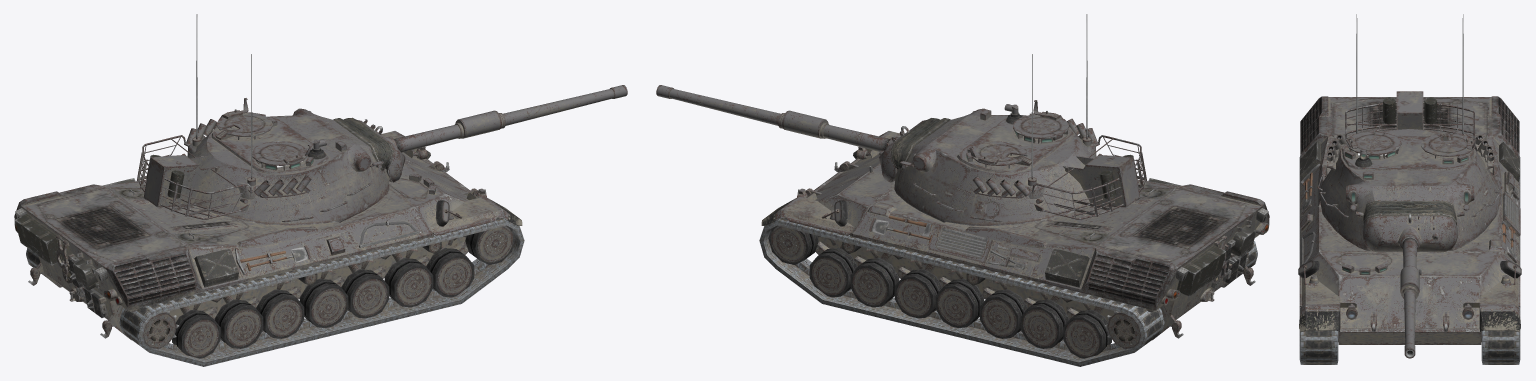
File: leopard-1a6a1-module-placeholder.glb
3 views of the same model, side by side, from view 1: azimuth 30°, elevation 25°; view 2: azimuth 150°, elevation 25°; view 3: azimuth 270°, elevation 25° (orthographic). The views are drawn at different scales.
Visible parts, largest first — view 1: hull_lod0, turret_01_lod0, chassis_track_R_lod0, gun_01_lod0, chassis_wheel_R_04_lod0, chassis_wheel_R_07_lod0, chassis_wheel_R_10_lod0, chassis_wheel_R_12_lod0, chassis_wheel_R_09_lod0, chassis_wheel_R_06_lod0, chassis_wheel_R_02_lod0, chassis_wheel_R_01_lod0 (+2 smaller); view 2: hull_lod0, turret_01_lod0, chassis_track_L_lod0, gun_01_lod0, chassis_wheel_L_04_lod0, chassis_wheel_L_07_lod0, chassis_wheel_L_10_lod0, chassis_wheel_L_12_lod0, chassis_wheel_L_09_lod0, chassis_wheel_L_06_lod0, chassis_wheel_L_02_lod0, chassis_wheel_L_01_lod0 (+2 smaller); view 3: hull_lod0, turret_01_lod0, gun_01_mask_lod0, gun_01_lod0, chassis_track_R_lod0, chassis_track_L_lod0.
Boxes of the visible parts, x1,y1,x2,y2 form: hull_lod0: (14, 131, 522, 340); turret_01_lod0: (137, 14, 389, 225); chassis_track_R_lod0: (119, 218, 524, 366); gun_01_lod0: (394, 85, 627, 152); chassis_wheel_R_04_lod0: (384, 258, 433, 307); chassis_wheel_R_07_lod0: (299, 278, 348, 327); chassis_wheel_R_10_lod0: (214, 299, 263, 348); chassis_wheel_R_12_lod0: (172, 310, 220, 358); chassis_wheel_R_09_lod0: (256, 289, 304, 338); chassis_wheel_R_06_lod0: (341, 269, 389, 318); chassis_wheel_R_02_lod0: (426, 248, 474, 297); chassis_wheel_R_01_lod0: (465, 225, 515, 264); hull_lod0: (761, 131, 1269, 340); turret_01_lod0: (894, 14, 1146, 225); chassis_track_L_lod0: (759, 218, 1164, 366); gun_01_lod0: (656, 85, 889, 151); chassis_wheel_L_04_lod0: (850, 258, 899, 307); chassis_wheel_L_07_lod0: (935, 278, 984, 327); chassis_wheel_L_10_lod0: (1020, 299, 1069, 348); chassis_wheel_L_12_lod0: (1063, 310, 1111, 358); chassis_wheel_L_09_lod0: (979, 289, 1027, 338); chassis_wheel_L_06_lod0: (894, 269, 942, 318); chassis_wheel_L_02_lod0: (809, 248, 857, 297); chassis_wheel_L_01_lod0: (768, 225, 818, 264); hull_lod0: (1298, 96, 1521, 344); turret_01_lod0: (1317, 14, 1502, 250); gun_01_mask_lod0: (1362, 208, 1457, 252); gun_01_lod0: (1400, 237, 1419, 358); chassis_track_R_lod0: (1299, 156, 1338, 364); chassis_track_L_lod0: (1481, 156, 1520, 364).
Size of the model in its own units: 9.56 by 4.38 by 3.31.
7 materials, 2 textured.
